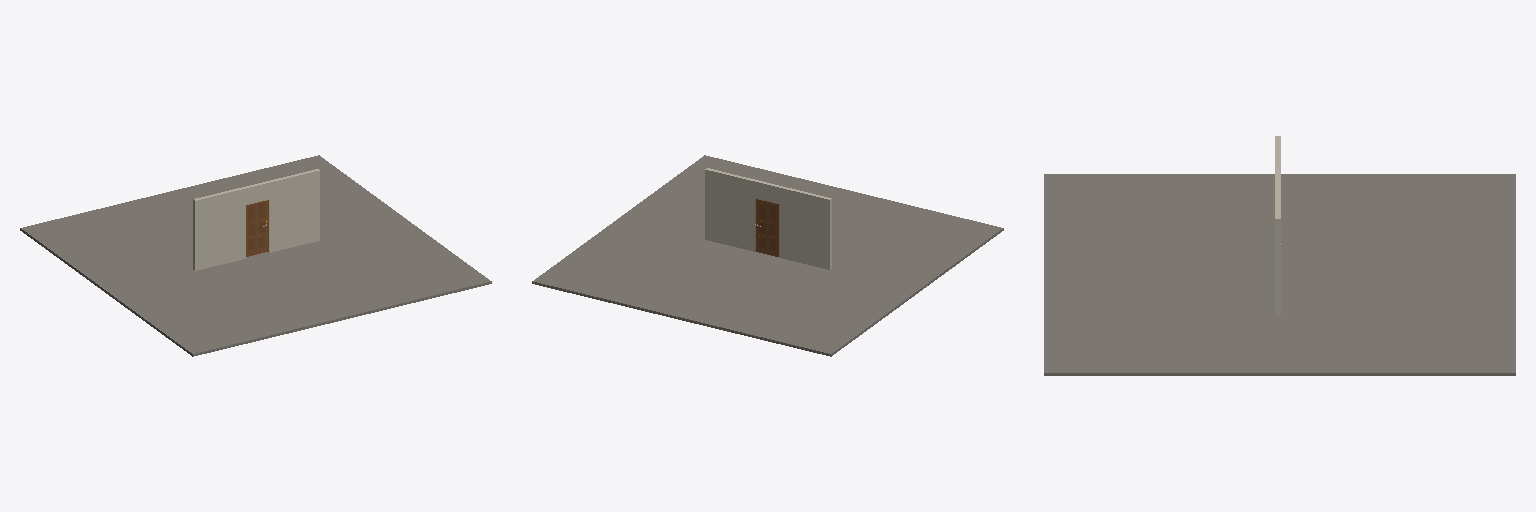
URDF robot description (db0664_swing_single_simple):
<?xml version="1.0" ?>
<robot xmlns:doorbench="https://github.com/adamraudonis/DoorBench/schema/urdf-ext" name="db0664_swing_single_simple">
  <link name="world_env">
    <visual name="floor_vis">
      <origin xyz="0 0 -0.05" rpy="0 0 0"/>
      <geometry>
        <box size="12 12 0.1"/>
      </geometry>
      <material name="mat_floor"/>
    </visual>
    <collision name="floor_col">
      <origin xyz="0 0 -0.05" rpy="0 0 0"/>
      <geometry>
        <box size="12 12 0.1"/>
      </geometry>
    </collision>
    <visual name="wall_left_vis">
      <origin xyz="-1.48975 -0.0435 1.35" rpy="0 0 0"/>
      <geometry>
        <box size="2.0205 0.145 2.7"/>
      </geometry>
      <material name="mat_wall"/>
    </visual>
    <collision name="wall_left_col">
      <origin xyz="-1.48975 -0.0435 1.35" rpy="0 0 0"/>
      <geometry>
        <box size="2.0205 0.145 2.7"/>
      </geometry>
    </collision>
    <visual name="wall_right_vis">
      <origin xyz="1.50475 -0.0435 1.35" rpy="0 0 0"/>
      <geometry>
        <box size="1.9905 0.145 2.7"/>
      </geometry>
      <material name="mat_wall"/>
    </visual>
    <collision name="wall_right_col">
      <origin xyz="1.50475 -0.0435 1.35" rpy="0 0 0"/>
      <geometry>
        <box size="1.9905 0.145 2.7"/>
      </geometry>
    </collision>
    <visual name="wall_header_vis">
      <origin xyz="0.015 -0.0435 2.397" rpy="0 0 0"/>
      <geometry>
        <box size="0.989 0.145 0.606"/>
      </geometry>
      <material name="mat_wall"/>
    </visual>
    <collision name="wall_header_col">
      <origin xyz="0.015 -0.0435 2.397" rpy="0 0 0"/>
      <geometry>
        <box size="0.989 0.145 0.606"/>
      </geometry>
    </collision>
    <visual name="hinge_0_jamb_vis">
      <origin xyz="-0.4575 0.029 0.259" rpy="3.141593 0 0"/>
      <geometry>
        <mesh filename="../../hardware/hinge_jamb_e1d088f8dc.obj"/>
      </geometry>
      <material name="mat_hinge"/>
    </visual>
    <visual name="hinge_1_jamb_vis">
      <origin xyz="-0.4575 0.029 1.025" rpy="3.141593 0 0"/>
      <geometry>
        <mesh filename="../../hardware/hinge_jamb_e1d088f8dc.obj"/>
      </geometry>
      <material name="mat_hinge"/>
    </visual>
    <visual name="hinge_2_jamb_vis">
      <origin xyz="-0.4575 0.029 1.861" rpy="3.141593 0 0"/>
      <geometry>
        <mesh filename="../../hardware/hinge_jamb_e1d088f8dc.obj"/>
      </geometry>
      <material name="mat_hinge"/>
    </visual>
    <visual name="leaf_deadbolt_strike_b_vis">
      <origin xyz="0.46 0 1.1715" rpy="1.570796 0 -1.570796"/>
      <geometry>
        <box size="0.031 0.006 0.001"/>
      </geometry>
      <material name="mat_deadbolt"/>
    </visual>
    <visual name="leaf_deadbolt_strike_l_vis">
      <origin xyz="0.46 0.0125 1.19" rpy="1.570796 0 -1.570796"/>
      <geometry>
        <box size="0.006 0.031 0.001"/>
      </geometry>
      <material name="mat_deadbolt"/>
    </visual>
    <visual name="leaf_deadbolt_strike_t_vis">
      <origin xyz="0.46 0 1.2085" rpy="1.570796 0 -1.570796"/>
      <geometry>
        <box size="0.031 0.006 0.001"/>
      </geometry>
      <material name="mat_deadbolt"/>
    </visual>
    <visual name="leaf_deadbolt_strike_r_vis">
      <origin xyz="0.46 -0.0125 1.19" rpy="1.570796 0 -1.570796"/>
      <geometry>
        <box size="0.006 0.031 0.001"/>
      </geometry>
      <material name="mat_deadbolt"/>
    </visual>
    <visual name="jamb_hinge_vis">
      <origin xyz="-0.47 -0.0435 1.0225" rpy="0 0 0"/>
      <geometry>
        <box size="0.019 0.145 2.045"/>
      </geometry>
      <material name="mat_frame"/>
    </visual>
    <collision name="jamb_hinge_col">
      <origin xyz="-0.47 -0.0435 1.0225" rpy="0 0 0"/>
      <geometry>
        <box size="0.019 0.145 2.045"/>
      </geometry>
    </collision>
    <visual name="strike_1050_wall_n_vis">
      <origin xyz="0.485 -0.061925 1.05" rpy="0 0 0"/>
      <geometry>
        <box size="0.049 0.10815 0.0334"/>
      </geometry>
      <material name="mat_frame"/>
    </visual>
    <collision name="strike_1050_wall_n_col">
      <origin xyz="0.485 -0.061925 1.05" rpy="0 0 0"/>
      <geometry>
        <box size="0.049 0.10815 0.0334"/>
      </geometry>
    </collision>
    <visual name="strike_1050_wall_p_vis">
      <origin xyz="0.485 0.01585 1.05" rpy="0 0 0"/>
      <geometry>
        <box size="0.049 0.016 0.0334"/>
      </geometry>
      <material name="mat_frame"/>
    </visual>
    <collision name="strike_1050_wall_p_col">
      <origin xyz="0.485 0.01585 1.05" rpy="0 0 0"/>
      <geometry>
        <box size="0.049 0.016 0.0334"/>
      </geometry>
    </collision>
    <visual name="strike_1050_ramp_vis">
      <origin xyz="0.489636 0.028673 1.05" rpy="0 0 -0.428384"/>
      <geometry>
        <box size="0.049 0.03298 0.0334"/>
      </geometry>
      <material name="mat_frame"/>
    </visual>
    <collision name="strike_1050_ramp_col">
      <origin xyz="0.489636 0.028673 1.05" rpy="0 0 -0.428384"/>
      <geometry>
        <box size="0.049 0.03298 0.0334"/>
      </geometry>
    </collision>
    <visual name="strike_1050_back_vis">
      <origin xyz="0.49335 0 1.05" rpy="0 0 0"/>
      <geometry>
        <box size="0.0323 0.0157 0.0334"/>
      </geometry>
      <material name="mat_frame"/>
    </visual>
    <collision name="strike_1050_back_col">
      <origin xyz="0.49335 0 1.05" rpy="0 0 0"/>
      <geometry>
        <box size="0.0323 0.0157 0.0334"/>
      </geometry>
    </collision>
    <visual name="strike_1190_wall_n_vis">
      <origin xyz="0.485 -0.06275 1.19" rpy="0 0 0"/>
      <geometry>
        <box size="0.049 0.1065 0.031"/>
      </geometry>
      <material name="mat_frame"/>
    </visual>
    <collision name="strike_1190_wall_n_col">
      <origin xyz="0.485 -0.06275 1.19" rpy="0 0 0"/>
      <geometry>
        <box size="0.049 0.1065 0.031"/>
      </geometry>
    </collision>
    <visual name="strike_1190_wall_p_vis">
      <origin xyz="0.485 0.01925 1.19" rpy="0 0 0"/>
      <geometry>
        <box size="0.049 0.0195 0.031"/>
      </geometry>
      <material name="mat_frame"/>
    </visual>
    <collision name="strike_1190_wall_p_col">
      <origin xyz="0.485 0.01925 1.19" rpy="0 0 0"/>
      <geometry>
        <box size="0.049 0.0195 0.031"/>
      </geometry>
    </collision>
    <visual name="strike_1190_back_vis">
      <origin xyz="0.495 0 1.19" rpy="0 0 0"/>
      <geometry>
        <box size="0.029 0.019 0.031"/>
      </geometry>
      <material name="mat_frame"/>
    </visual>
    <collision name="strike_1190_back_col">
      <origin xyz="0.495 0 1.19" rpy="0 0 0"/>
      <geometry>
        <box size="0.029 0.019 0.031"/>
      </geometry>
    </collision>
    <visual name="jamb_strike_0_vis">
      <origin xyz="0.485 -0.0435 0.51665" rpy="0 0 0"/>
      <geometry>
        <box size="0.049 0.145 1.0333"/>
      </geometry>
      <material name="mat_frame"/>
    </visual>
    <collision name="jamb_strike_0_col">
      <origin xyz="0.485 -0.0435 0.51665" rpy="0 0 0"/>
      <geometry>
        <box size="0.049 0.145 1.0333"/>
      </geometry>
    </collision>
    <visual name="jamb_strike_1_vis">
      <origin xyz="0.485 -0.0435 1.1206" rpy="0 0 0"/>
      <geometry>
        <box size="0.049 0.145 0.1078"/>
      </geometry>
      <material name="mat_frame"/>
    </visual>
    <collision name="jamb_strike_1_col">
      <origin xyz="0.485 -0.0435 1.1206" rpy="0 0 0"/>
      <geometry>
        <box size="0.049 0.145 0.1078"/>
      </geometry>
    </collision>
    <visual name="jamb_strike_2_vis">
      <origin xyz="0.485 -0.0435 1.62525" rpy="0 0 0"/>
      <geometry>
        <box size="0.049 0.145 0.8395"/>
      </geometry>
      <material name="mat_frame"/>
    </visual>
    <collision name="jamb_strike_2_col">
      <origin xyz="0.485 -0.0435 1.62525" rpy="0 0 0"/>
      <geometry>
        <box size="0.049 0.145 0.8395"/>
      </geometry>
    </collision>
    <visual name="jamb_head_vis">
      <origin xyz="0.015 -0.0435 2.0545" rpy="0 0 0"/>
      <geometry>
        <box size="0.989 0.145 0.019"/>
      </geometry>
      <material name="mat_frame"/>
    </visual>
    <collision name="jamb_head_col">
      <origin xyz="0.015 -0.0435 2.0545" rpy="0 0 0"/>
      <geometry>
        <box size="0.989 0.145 0.019"/>
      </geometry>
    </collision>
    <visual name="head_stud_vis">
      <origin xyz="0.015 -0.0435 2.079" rpy="0 0 0"/>
      <geometry>
        <box size="0.989 0.145 0.03"/>
      </geometry>
      <material name="mat_wall"/>
    </visual>
    <collision name="head_stud_col">
      <origin xyz="0.015 -0.0435 2.079" rpy="0 0 0"/>
      <geometry>
        <box size="0.989 0.145 0.03"/>
      </geometry>
    </collision>
    <visual name="stop_hinge_vis">
      <origin xyz="-0.455 -0.0385 1.0225" rpy="0 0 0"/>
      <geometry>
        <box size="0.011 0.032 2.045"/>
      </geometry>
      <material name="mat_frame"/>
    </visual>
    <collision name="stop_hinge_col">
      <origin xyz="-0.455 -0.0385 1.0225" rpy="0 0 0"/>
      <geometry>
        <box size="0.011 0.032 2.045"/>
      </geometry>
    </collision>
    <visual name="stop_strike_vis">
      <origin xyz="0.455 -0.0385 1.0225" rpy="0 0 0"/>
      <geometry>
        <box size="0.011 0.032 2.045"/>
      </geometry>
      <material name="mat_frame"/>
    </visual>
    <collision name="stop_strike_col">
      <origin xyz="0.455 -0.0385 1.0225" rpy="0 0 0"/>
      <geometry>
        <box size="0.011 0.032 2.045"/>
      </geometry>
    </collision>
    <visual name="stop_head_vis">
      <origin xyz="0 -0.0385 2.0395" rpy="0 0 0"/>
      <geometry>
        <box size="0.921 0.032 0.011"/>
      </geometry>
      <material name="mat_frame"/>
    </visual>
    <collision name="stop_head_col">
      <origin xyz="0 -0.0385 2.0395" rpy="0 0 0"/>
      <geometry>
        <box size="0.921 0.032 0.011"/>
      </geometry>
    </collision>
    <visual name="transom_glass_vis">
      <origin xyz="0 0 2.295" rpy="0 0 0"/>
      <geometry>
        <box size="0.921 0.006 0.36"/>
      </geometry>
      <material name="mat_transom"/>
    </visual>
    <collision name="transom_glass_col">
      <origin xyz="0 0 2.295" rpy="0 0 0"/>
      <geometry>
        <box size="0.921 0.006 0.36"/>
      </geometry>
    </collision>
  </link>
  <link name="leaf">
    <inertial>
      <origin xyz="0.454596 -0.029152 1.027547" rpy="0 0 0"/>
      <mass value="43.216693"/>
      <inertia ixx="14.758087859" ixy="0.013742024" ixz="-0.029354801" iyy="17.911943123" iyz="0.002910703" izz="3.169685258"/>
    </inertial>
    <visual name="leaf_slab_vis">
      <origin xyz="0.457 -0.029 1.025" rpy="0 0 0"/>
      <geometry>
        <box size="0.914 0.044 2.032"/>
      </geometry>
      <material name="mat_leaf"/>
    </visual>
    <collision name="leaf_slab_col">
      <origin xyz="0.457 -0.029 1.025" rpy="0 0 0"/>
      <geometry>
        <box size="0.914 0.044 2.032"/>
      </geometry>
    </collision>
    <visual name="leaf_panel_0_n_vis">
      <origin xyz="0.25627 -0.054 0.461552" rpy="0 0 0"/>
      <geometry>
        <box size="0.27146 0.006 0.418064"/>
      </geometry>
      <material name="mat_leaf_panel"/>
    </visual>
    <visual name="leaf_panel_0_p_vis">
      <origin xyz="0.25627 -0.004 0.461552" rpy="0 0 0"/>
      <geometry>
        <box size="0.27146 0.006 0.418064"/>
      </geometry>
      <material name="mat_leaf_panel"/>
    </visual>
    <visual name="leaf_panel_1_n_vis">
      <origin xyz="0.65773 -0.054 0.461552" rpy="0 0 0"/>
      <geometry>
        <box size="0.27146 0.006 0.418064"/>
      </geometry>
      <material name="mat_leaf_panel"/>
    </visual>
    <visual name="leaf_panel_1_p_vis">
      <origin xyz="0.65773 -0.004 0.461552" rpy="0 0 0"/>
      <geometry>
        <box size="0.27146 0.006 0.418064"/>
      </geometry>
      <material name="mat_leaf_panel"/>
    </visual>
    <visual name="leaf_panel_2_n_vis">
      <origin xyz="0.25627 -0.054 1.009616" rpy="0 0 0"/>
      <geometry>
        <box size="0.27146 0.006 0.418064"/>
      </geometry>
      <material name="mat_leaf_panel"/>
    </visual>
    <visual name="leaf_panel_2_p_vis">
      <origin xyz="0.25627 -0.004 1.009616" rpy="0 0 0"/>
      <geometry>
        <box size="0.27146 0.006 0.418064"/>
      </geometry>
      <material name="mat_leaf_panel"/>
    </visual>
    <visual name="leaf_panel_3_n_vis">
      <origin xyz="0.65773 -0.054 1.009616" rpy="0 0 0"/>
      <geometry>
        <box size="0.27146 0.006 0.418064"/>
      </geometry>
      <material name="mat_leaf_panel"/>
    </visual>
    <visual name="leaf_panel_3_p_vis">
      <origin xyz="0.65773 -0.004 1.009616" rpy="0 0 0"/>
      <geometry>
        <box size="0.27146 0.006 0.418064"/>
      </geometry>
      <material name="mat_leaf_panel"/>
    </visual>
    <visual name="leaf_panel_4_n_vis">
      <origin xyz="0.25627 -0.054 1.634024" rpy="0 0 0"/>
      <geometry>
        <box size="0.27146 0.006 0.570752"/>
      </geometry>
      <material name="mat_leaf_panel"/>
    </visual>
    <visual name="leaf_panel_4_p_vis">
      <origin xyz="0.25627 -0.004 1.634024" rpy="0 0 0"/>
      <geometry>
        <box size="0.27146 0.006 0.570752"/>
      </geometry>
      <material name="mat_leaf_panel"/>
    </visual>
    <visual name="leaf_panel_5_n_vis">
      <origin xyz="0.65773 -0.054 1.634024" rpy="0 0 0"/>
      <geometry>
        <box size="0.27146 0.006 0.570752"/>
      </geometry>
      <material name="mat_leaf_panel"/>
    </visual>
    <visual name="leaf_panel_5_p_vis">
      <origin xyz="0.65773 -0.004 1.634024" rpy="0 0 0"/>
      <geometry>
        <box size="0.27146 0.006 0.570752"/>
      </geometry>
      <material name="mat_leaf_panel"/>
    </visual>
    <visual name="hinge_0_vis">
      <origin xyz="0 0 0.259" rpy="3.141593 0 0"/>
      <geometry>
        <mesh filename="../../hardware/hinge_e22b26c0c1.obj"/>
      </geometry>
      <material name="mat_hinge"/>
    </visual>
    <visual name="hinge_1_vis">
      <origin xyz="0 0 1.025" rpy="3.141593 0 0"/>
      <geometry>
        <mesh filename="../../hardware/hinge_e22b26c0c1.obj"/>
      </geometry>
      <material name="mat_hinge"/>
    </visual>
    <visual name="hinge_2_vis">
      <origin xyz="0 0 1.861" rpy="3.141593 0 0"/>
      <geometry>
        <mesh filename="../../hardware/hinge_e22b26c0c1.obj"/>
      </geometry>
      <material name="mat_hinge"/>
    </visual>
    <visual name="leaf_latch_bolt_faceplate_vis">
      <origin xyz="0.9134 -0.029 1.05" rpy="0 0 0"/>
      <geometry>
        <box size="0.0012 0.0247 0.0534"/>
      </geometry>
      <material name="mat_bolt"/>
    </visual>
    <visual name="leaf_night_latch_case_vis">
      <origin xyz="0.854 -0.065 1.19" rpy="0 0 0"/>
      <geometry>
        <box size="0.092 0.028 0.084"/>
      </geometry>
      <material name="mat_night_latch"/>
    </visual>
    <collision name="leaf_night_latch_case_col">
      <origin xyz="0.854 -0.065 1.19" rpy="0 0 0"/>
      <geometry>
        <box size="0.092 0.028 0.084"/>
      </geometry>
    </collision>
    <visual name="leaf_deadbolt_faceplate_vis">
      <origin xyz="0.9134 -0.029 1.19" rpy="0 0 0"/>
      <geometry>
        <box size="0.0012 0.028 0.049"/>
      </geometry>
      <material name="mat_deadbolt"/>
    </visual>
  </link>
  <link name="leaf_handle">
    <inertial>
      <origin xyz="-0.030188 0 0" rpy="0 0 0"/>
      <mass value="0.924918"/>
      <inertia ixx="0.003587995" ixy="0" ixz="0" iyy="0.001725188" iyz="0" izz="0.005135939"/>
    </inertial>
    <visual name="leaf_handle_lever_n_vis">
      <origin xyz="0 -0.022 0" rpy="1.570796 0 0"/>
      <geometry>
        <mesh filename="../../hardware/lever_9f02b544cf.obj"/>
      </geometry>
      <material name="mat_op_nickel_satin"/>
    </visual>
    <collision name="leaf_handle_lever_col_n_col">
      <origin xyz="-0.0625 -0.077 0" rpy="0 -1.570796 0"/>
      <geometry>
        <cylinder radius="0.0095" length="0.106"/>
      </geometry>
    </collision>
    <collision name="leaf_handle_hub_col_n_col">
      <origin xyz="0 -0.052 0" rpy="-1.570796 0 0"/>
      <geometry>
        <cylinder radius="0.012" length="0.044"/>
      </geometry>
    </collision>
    <visual name="leaf_handle_lever_p_vis">
      <origin xyz="0 0.022 0" rpy="-1.570796 0 0"/>
      <geometry>
        <mesh filename="../../hardware/lever_9f02b544cf.obj"/>
      </geometry>
      <material name="mat_op_nickel_satin"/>
    </visual>
    <collision name="leaf_handle_lever_col_p_col">
      <origin xyz="-0.0625 0.077 0" rpy="0 -1.570796 0"/>
      <geometry>
        <cylinder radius="0.0095" length="0.106"/>
      </geometry>
    </collision>
    <collision name="leaf_handle_hub_col_p_col">
      <origin xyz="0 0.052 0" rpy="-1.570796 0 0"/>
      <geometry>
        <cylinder radius="0.012" length="0.044"/>
      </geometry>
    </collision>
  </link>
  <link name="leaf_latch_bolt">
    <inertial>
      <origin xyz="-0.00865 0 0" rpy="0 0 0"/>
      <mass value="0.041419"/>
      <inertia ixx="0.000000798" ixy="0" ixz="0" iyy="0.000005598" iyz="0" izz="0.000005598"/>
    </inertial>
    <visual name="leaf_latch_bolt_capsule_vis">
      <origin xyz="-0.00865 0 0" rpy="0 1.570796 0"/>
      <geometry>
        <cylinder radius="0.00635" length="0.03"/>
      </geometry>
      <material name="mat_bolt"/>
    </visual>
    <collision name="leaf_latch_bolt_capsule_col">
      <origin xyz="-0.00865 0 0" rpy="0 1.570796 0"/>
      <geometry>
        <cylinder radius="0.00635" length="0.03"/>
      </geometry>
    </collision>
  </link>
  <link name="leaf_deadbolt">
    <inertial>
      <origin xyz="-0.007 0 0" rpy="0 0 0"/>
      <mass value="0.1564"/>
      <inertia ixx="0.000011482" ixy="0" ixz="0" iyy="0.000035724" iyz="0" izz="0.000030915"/>
    </inertial>
    <visual name="leaf_deadbolt_box_vis">
      <origin xyz="-0.007 0 0" rpy="0 0 0"/>
      <geometry>
        <box size="0.046 0.016 0.025"/>
      </geometry>
      <material name="mat_deadbolt"/>
    </visual>
    <collision name="leaf_deadbolt_box_col">
      <origin xyz="-0.007 0 0" rpy="0 0 0"/>
      <geometry>
        <box size="0.046 0.016 0.025"/>
      </geometry>
    </collision>
  </link>
  <link name="leaf_deadbolt_thumbturn">
    <inertial>
      <origin xyz="0 -0.012928 0" rpy="0 0 0"/>
      <mass value="0.178946"/>
      <inertia ixx="0.000032438" ixy="0" ixz="0" iyy="0.000026045" iyz="0" izz="0.000026215"/>
    </inertial>
    <visual name="leaf_deadbolt_thumbturn_mesh_vis">
      <origin xyz="0 0 0" rpy="1.570796 0 0"/>
      <geometry>
        <mesh filename="../../hardware/thumbturn_eb5c9899a3.obj"/>
      </geometry>
      <material name="mat_deadbolt"/>
    </visual>
    <collision name="leaf_deadbolt_thumbturn_mesh_col">
      <origin xyz="0 0 0" rpy="1.570796 0 0"/>
      <geometry>
        <mesh filename="../../hardware/thumbturn_eb5c9899a3.obj"/>
      </geometry>
    </collision>
    <collision name="leaf_deadbolt_thumbturn_col_col">
      <origin xyz="0 -0.02 0" rpy="0 0 0"/>
      <geometry>
        <box size="0.012 0.024 0.032"/>
      </geometry>
    </collision>
  </link>
  <joint name="leaf_hinge" type="revolute">
    <origin xyz="-0.4575 0.029 0" rpy="0 0 0"/>
    <parent link="world_env"/>
    <child link="leaf"/>
    <axis xyz="0 0 1"/>
    <limit lower="0" upper="2.356194" effort="2000" velocity="10"/>
    <dynamics damping="0.30611" friction="0.188358"/>
    <doorbench:closer damping_closing="0" damping_opening="0" backcheck_angle="0" backcheck_damping="0"/>
  </joint>
  <joint name="leaf_handle_hinge" type="revolute">
    <origin xyz="0.844 -0.029 1.05" rpy="0 0 0"/>
    <parent link="leaf"/>
    <child link="leaf_handle"/>
    <axis xyz="0 -1 0"/>
    <limit lower="0" upper="0.96" effort="2000" velocity="10"/>
    <dynamics damping="0.245624" friction="0.048"/>
    <doorbench:spring stiffness="1.2" springref="-0.458333" note="tau = -stiffness*(q - springref); not native URDF"/>
  </joint>
  <joint name="leaf_latch_bolt_slide" type="prismatic">
    <origin xyz="0.914 -0.029 1.05" rpy="0 0 0"/>
    <parent link="leaf"/>
    <child link="leaf_latch_bolt"/>
    <axis xyz="-1 0 0"/>
    <limit lower="0" upper="0.0127" effort="5000" velocity="10"/>
    <dynamics damping="2" friction="0.3"/>
    <doorbench:spring stiffness="300" springref="-0.008333" note="tau = -stiffness*(q - springref); not native URDF"/>
    <mimic joint="leaf_handle_hinge" multiplier="0.013956" offset="0"/>
    <doorbench:coupling one_sided="true" note="MJCF uses a one-sided tendon (bolt may retract further, e.g. riding over the strike lip); mimic is bilateral"/>
  </joint>
  <joint name="leaf_deadbolt_slide" type="prismatic">
    <origin xyz="0.914 -0.029 1.19" rpy="0 0 0"/>
    <parent link="leaf"/>
    <child link="leaf_deadbolt"/>
    <axis xyz="-1 0 0"/>
    <limit lower="0" upper="0.016" effort="5000" velocity="10"/>
    <dynamics damping="5" friction="1.5"/>
    <mimic joint="leaf_deadbolt_thumbturn_hinge" multiplier="0.016" offset="0"/>
  </joint>
  <joint name="leaf_deadbolt_thumbturn_hinge" type="revolute">
    <origin xyz="0.849 -0.079 1.19" rpy="0 0 0"/>
    <parent link="leaf"/>
    <child link="leaf_deadbolt_thumbturn"/>
    <axis xyz="0 1 0"/>
    <limit lower="0" upper="1" effort="2000" velocity="10"/>
    <dynamics damping="0.05" friction="0.25"/>
  </joint>
  <material name="mat_bolt">
    <color rgba="0.85 0.66 0.3 1"/>
  </material>
  <material name="mat_deadbolt">
    <color rgba="0.85 0.66 0.3 1"/>
  </material>
  <material name="mat_floor">
    <color rgba="0.55 0.53 0.5 1"/>
  </material>
  <material name="mat_frame">
    <color rgba="0.82 0.7 0.5 1"/>
  </material>
  <material name="mat_hinge">
    <color rgba="0.65 0.66 0.68 1"/>
  </material>
  <material name="mat_leaf">
    <color rgba="0.542 0.378 0.247 1"/>
  </material>
  <material name="mat_leaf_panel">
    <color rgba="0.499 0.348 0.227 1"/>
  </material>
  <material name="mat_night_latch">
    <color rgba="0.55 0.42 0.22 1"/>
  </material>
  <material name="mat_op_nickel_satin">
    <color rgba="0.72 0.7 0.66 1"/>
  </material>
  <material name="mat_transom">
    <color rgba="0.85 0.92 0.95 0.25"/>
  </material>
  <material name="mat_wall">
    <color rgba="0.78 0.76 0.7 1"/>
  </material>
</robot>

--- What the picture shows (computed from the rendered views, not written in the file) ---
Views: 3 orthographic renders of the robot side by side, from view 1: azimuth 30°, elevation 25°; view 2: azimuth 150°, elevation 25°; view 3: azimuth 270°, elevation 25°.
Robot: db0664_swing_single_simple — 6 links, 5 joints (3 revolute, 2 prismatic); root link world_env; default pose: every joint at zero.
Links seen in each view (by area): view 1: world_env, leaf; view 2: world_env, leaf; view 3: world_env.
Link boxes in pixels (x1=…): world_env: x1=20, y1=155, x2=491, y2=356; leaf: x1=246, y1=200, x2=267, y2=256; world_env: x1=532, y1=155, x2=1003, y2=356; leaf: x1=756, y1=199, x2=778, y2=256; world_env: x1=1044, y1=136, x2=1515, y2=375.
Size in the robot's own frame: 12 by 12 by 2.8 metres.
9 mesh visuals loaded from 4 distinct referenced files (4 OBJ).
